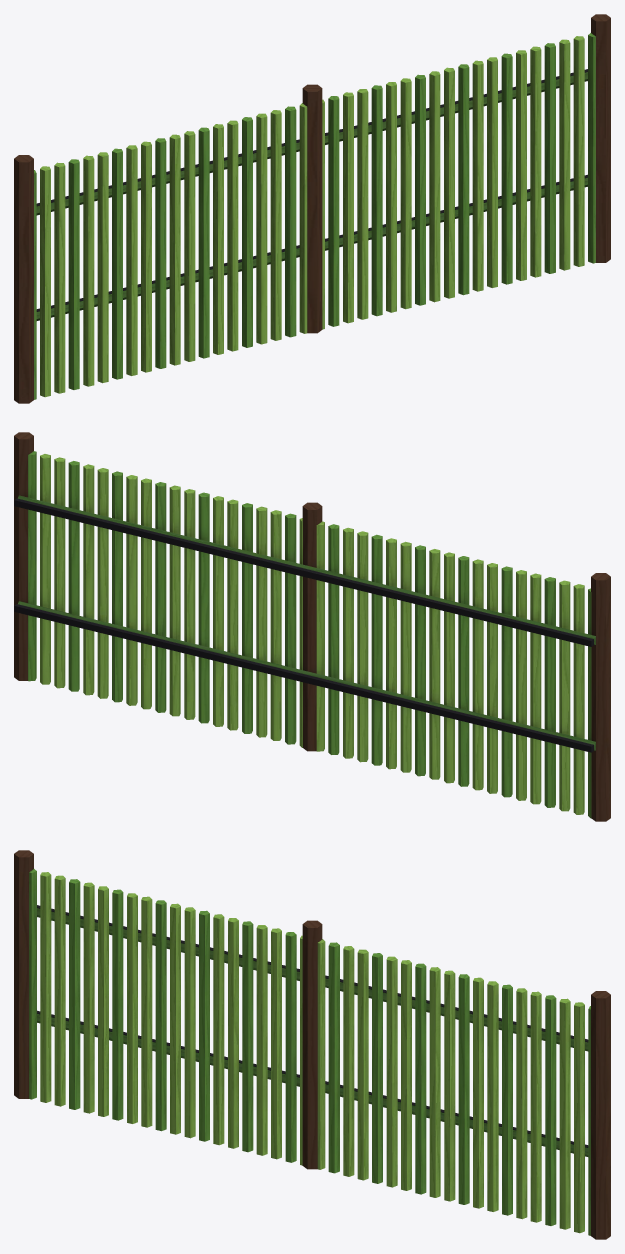
Rendered from takegaki_tex.glb.
3 views of the same model, one above another, from view 1: azimuth 30°, elevation 25°; view 2: azimuth 150°, elevation 25°; view 3: azimuth 330°, elevation 25° (orthographic).
Visible parts, largest first — view 1: takegaki; view 2: takegaki; view 3: takegaki.
Boxes of the visible parts, x1,y1,x2,y2 form: takegaki: [14, 14, 610, 403]; takegaki: [14, 432, 610, 821]; takegaki: [14, 850, 610, 1239].
Bounding box in the file's own units: 4.1 × 1.6 × 0.175.
5 materials, 5 textured.
